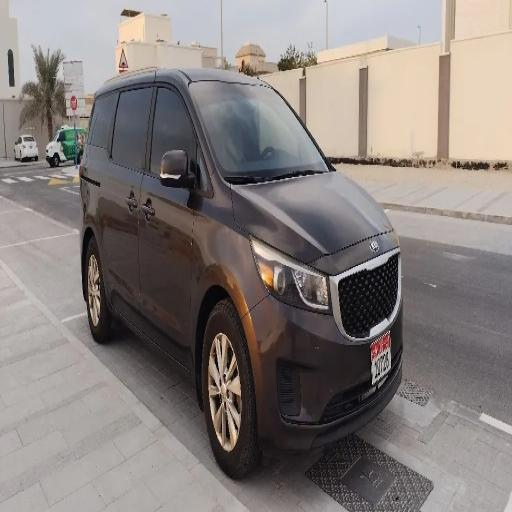license-plates: (371, 331, 391, 386)
